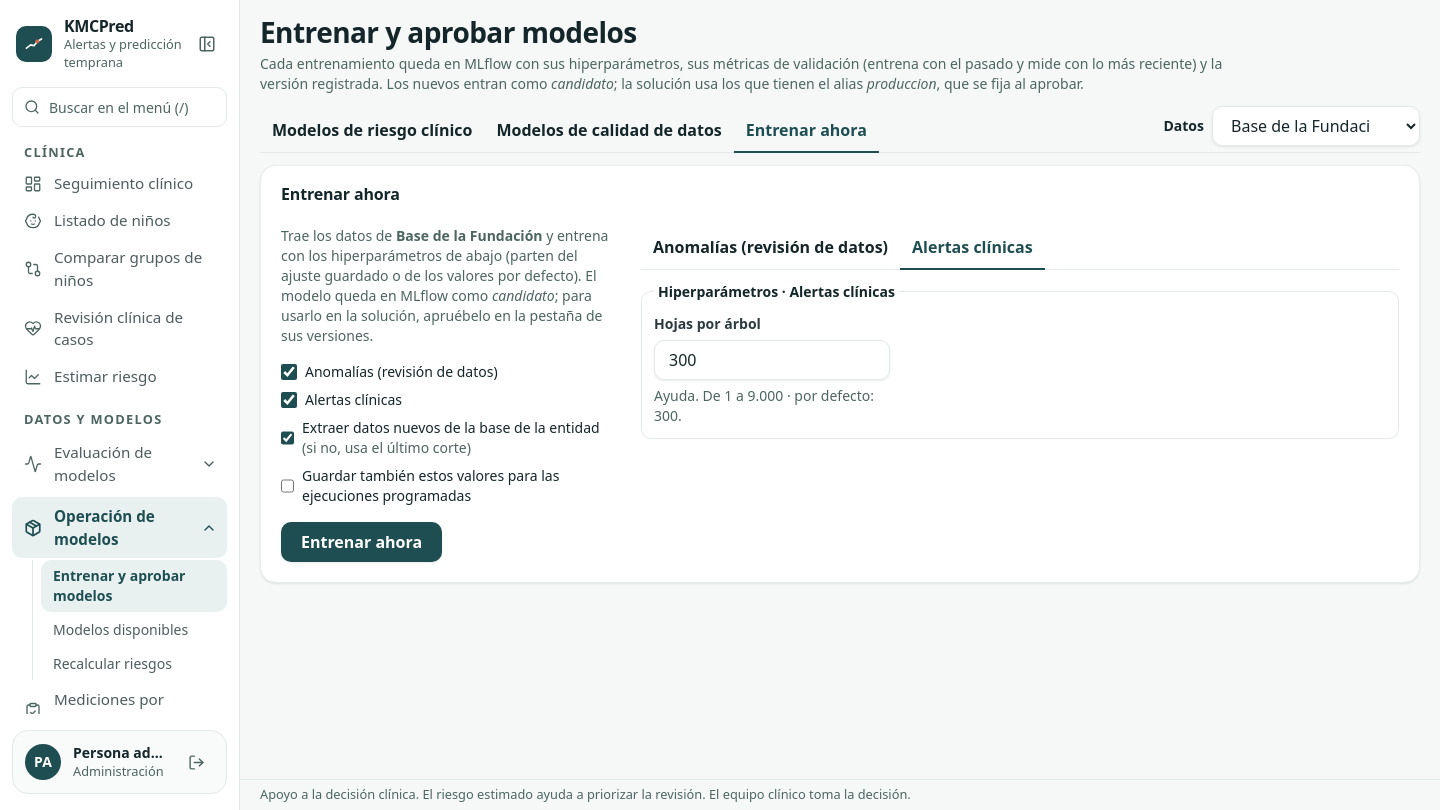
Test case: Entrenamientos en pestañas › la pestaña va en la dirección y el selector de datos acompaña a todas
un modelo por pestaña: el otro no se ve hasta elegirlo, y lo escrito se conserva
Type "5" into the number field labelled "Hojas por árbol".
click(772, 360); type("5")  # box [654, 340, 890, 380]
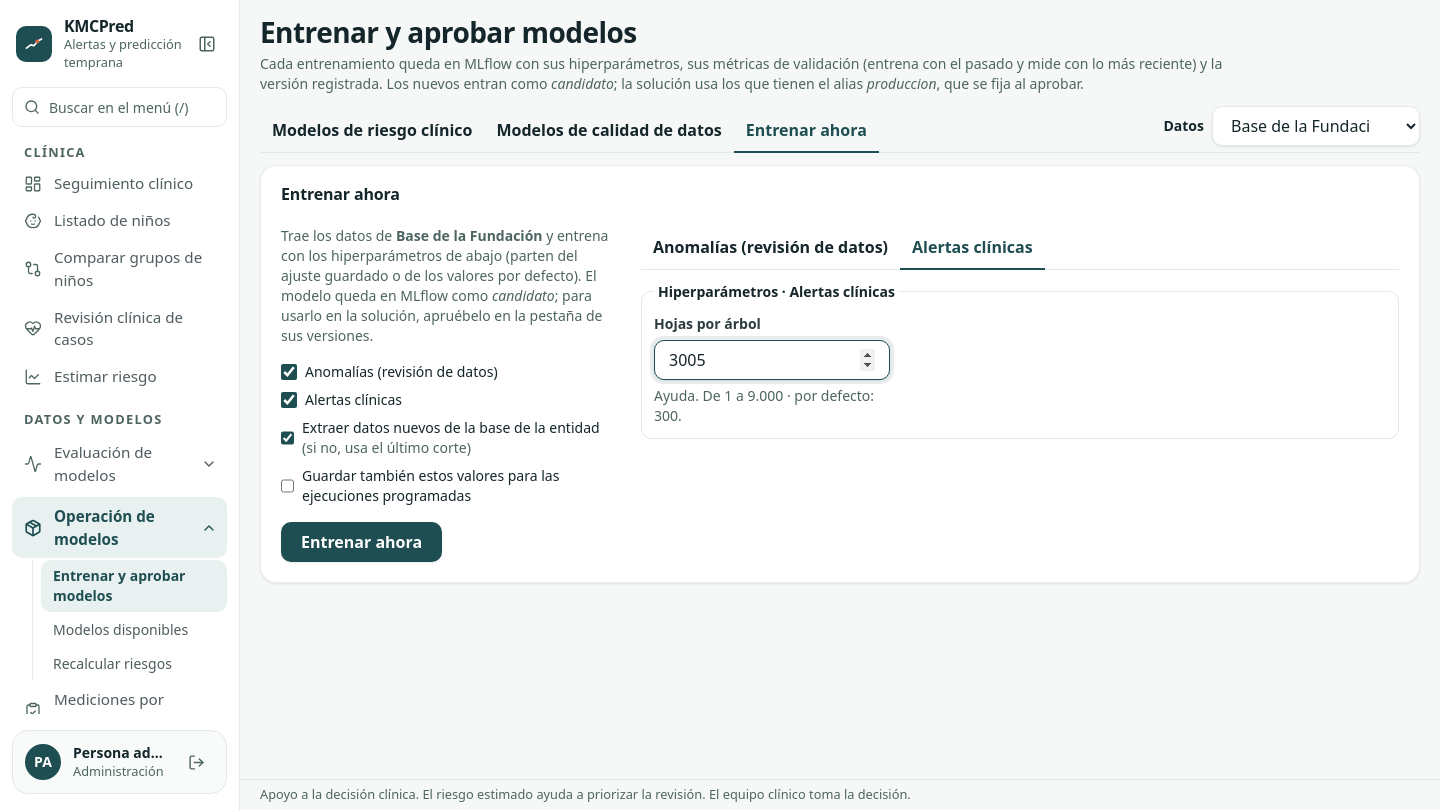
Click the tab "Anomalías (revisión de datos)".
click(770, 248)  # box [641, 226, 900, 270]
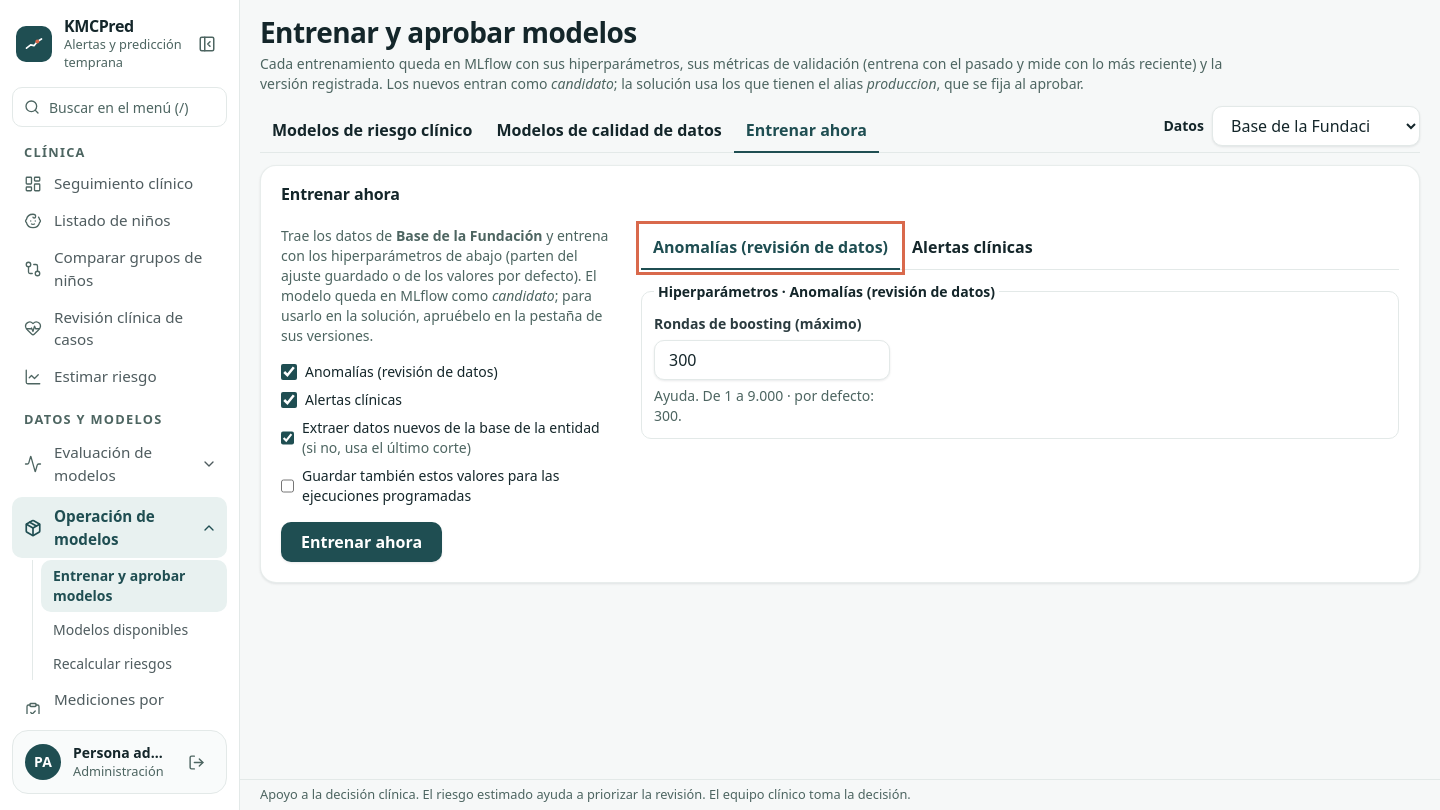
expect the number field labelled "Rondas de boosting (máximo)" is shown: met, box [654, 340, 890, 380]
expect the label labelled "Hojas por árbol" is gone: met
